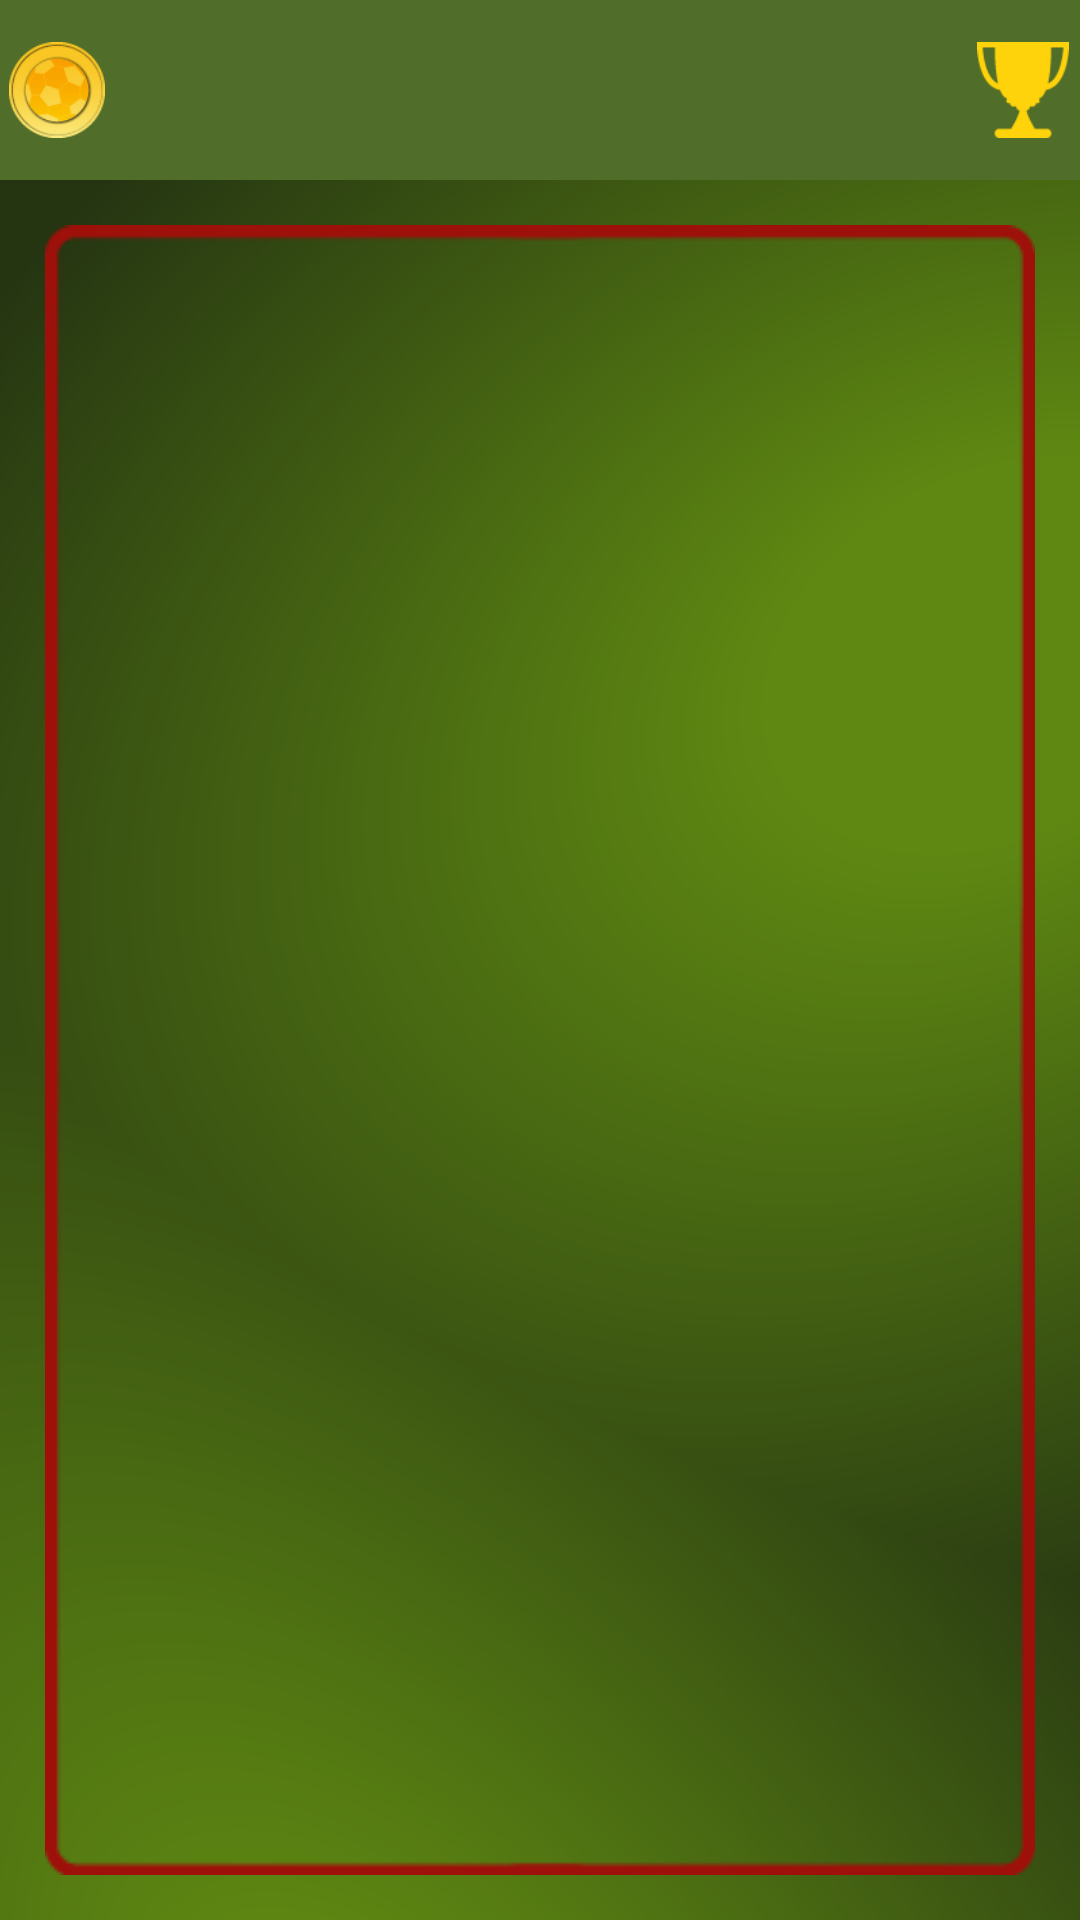

Icons on this 1080x1920 Android screen, each with its box as (x1, y1, x2, y2):
coin: (9, 42, 105, 138)
